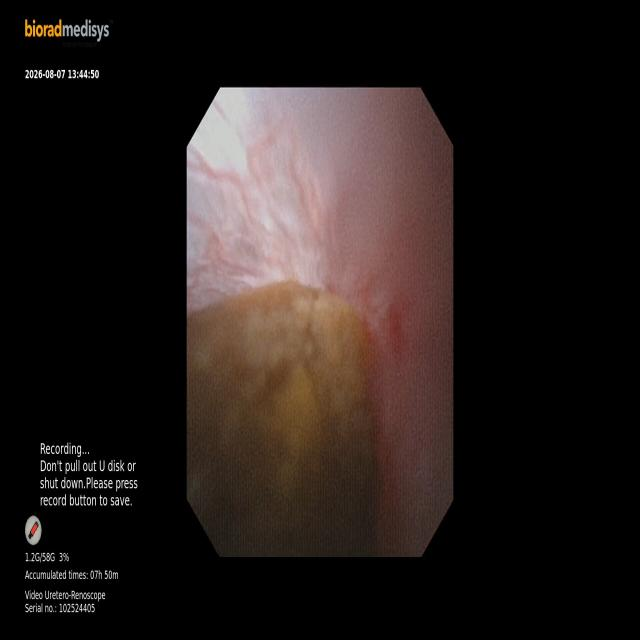stone-new: (187, 283, 377, 555)
